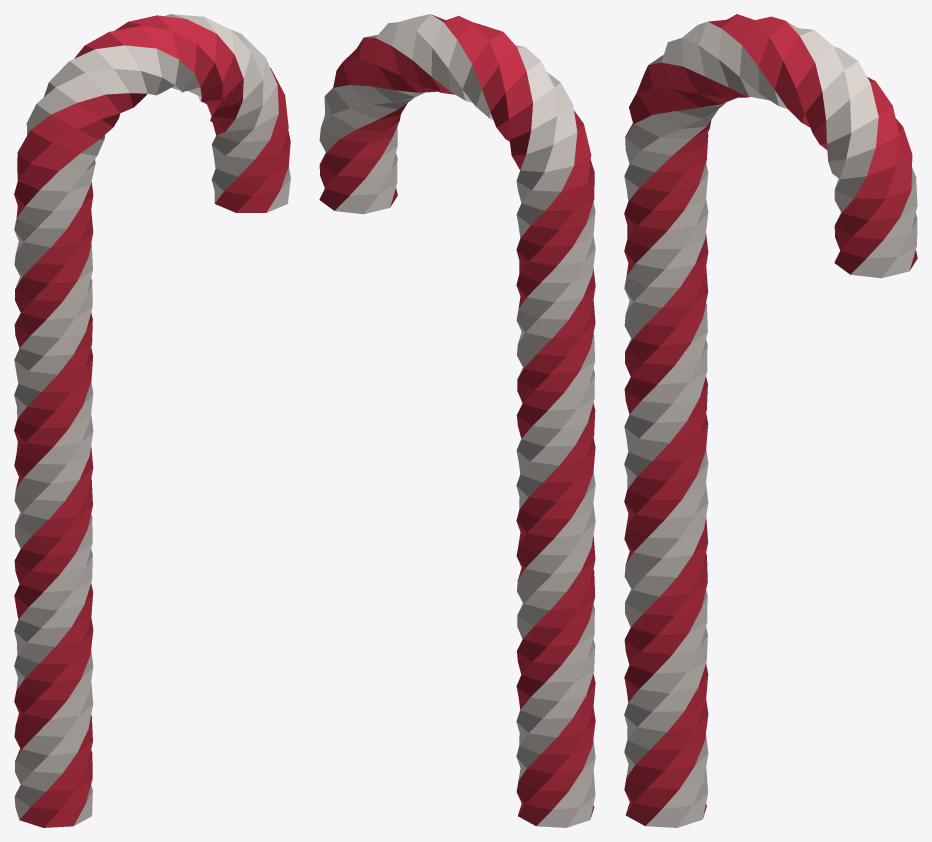
File: CandyCane_Large.glb
3 renders of one model, left to right at view 1: azimuth 30°, elevation 25°; view 2: azimuth 150°, elevation 25°; view 3: azimuth 330°, elevation 25°, orthographic. The views are drawn at different scales.
Parts seen in each view (by area): view 1: CandyCane_Large; view 2: CandyCane_Large; view 3: CandyCane_Large.
Boxes of the visible parts, x1,y1,x2,y2 form: CandyCane_Large: (14, 14, 290, 827); CandyCane_Large: (319, 14, 595, 827); CandyCane_Large: (624, 14, 917, 827).
Bounding box in the file's own units: 3.1 × 8.54 × 0.8.
